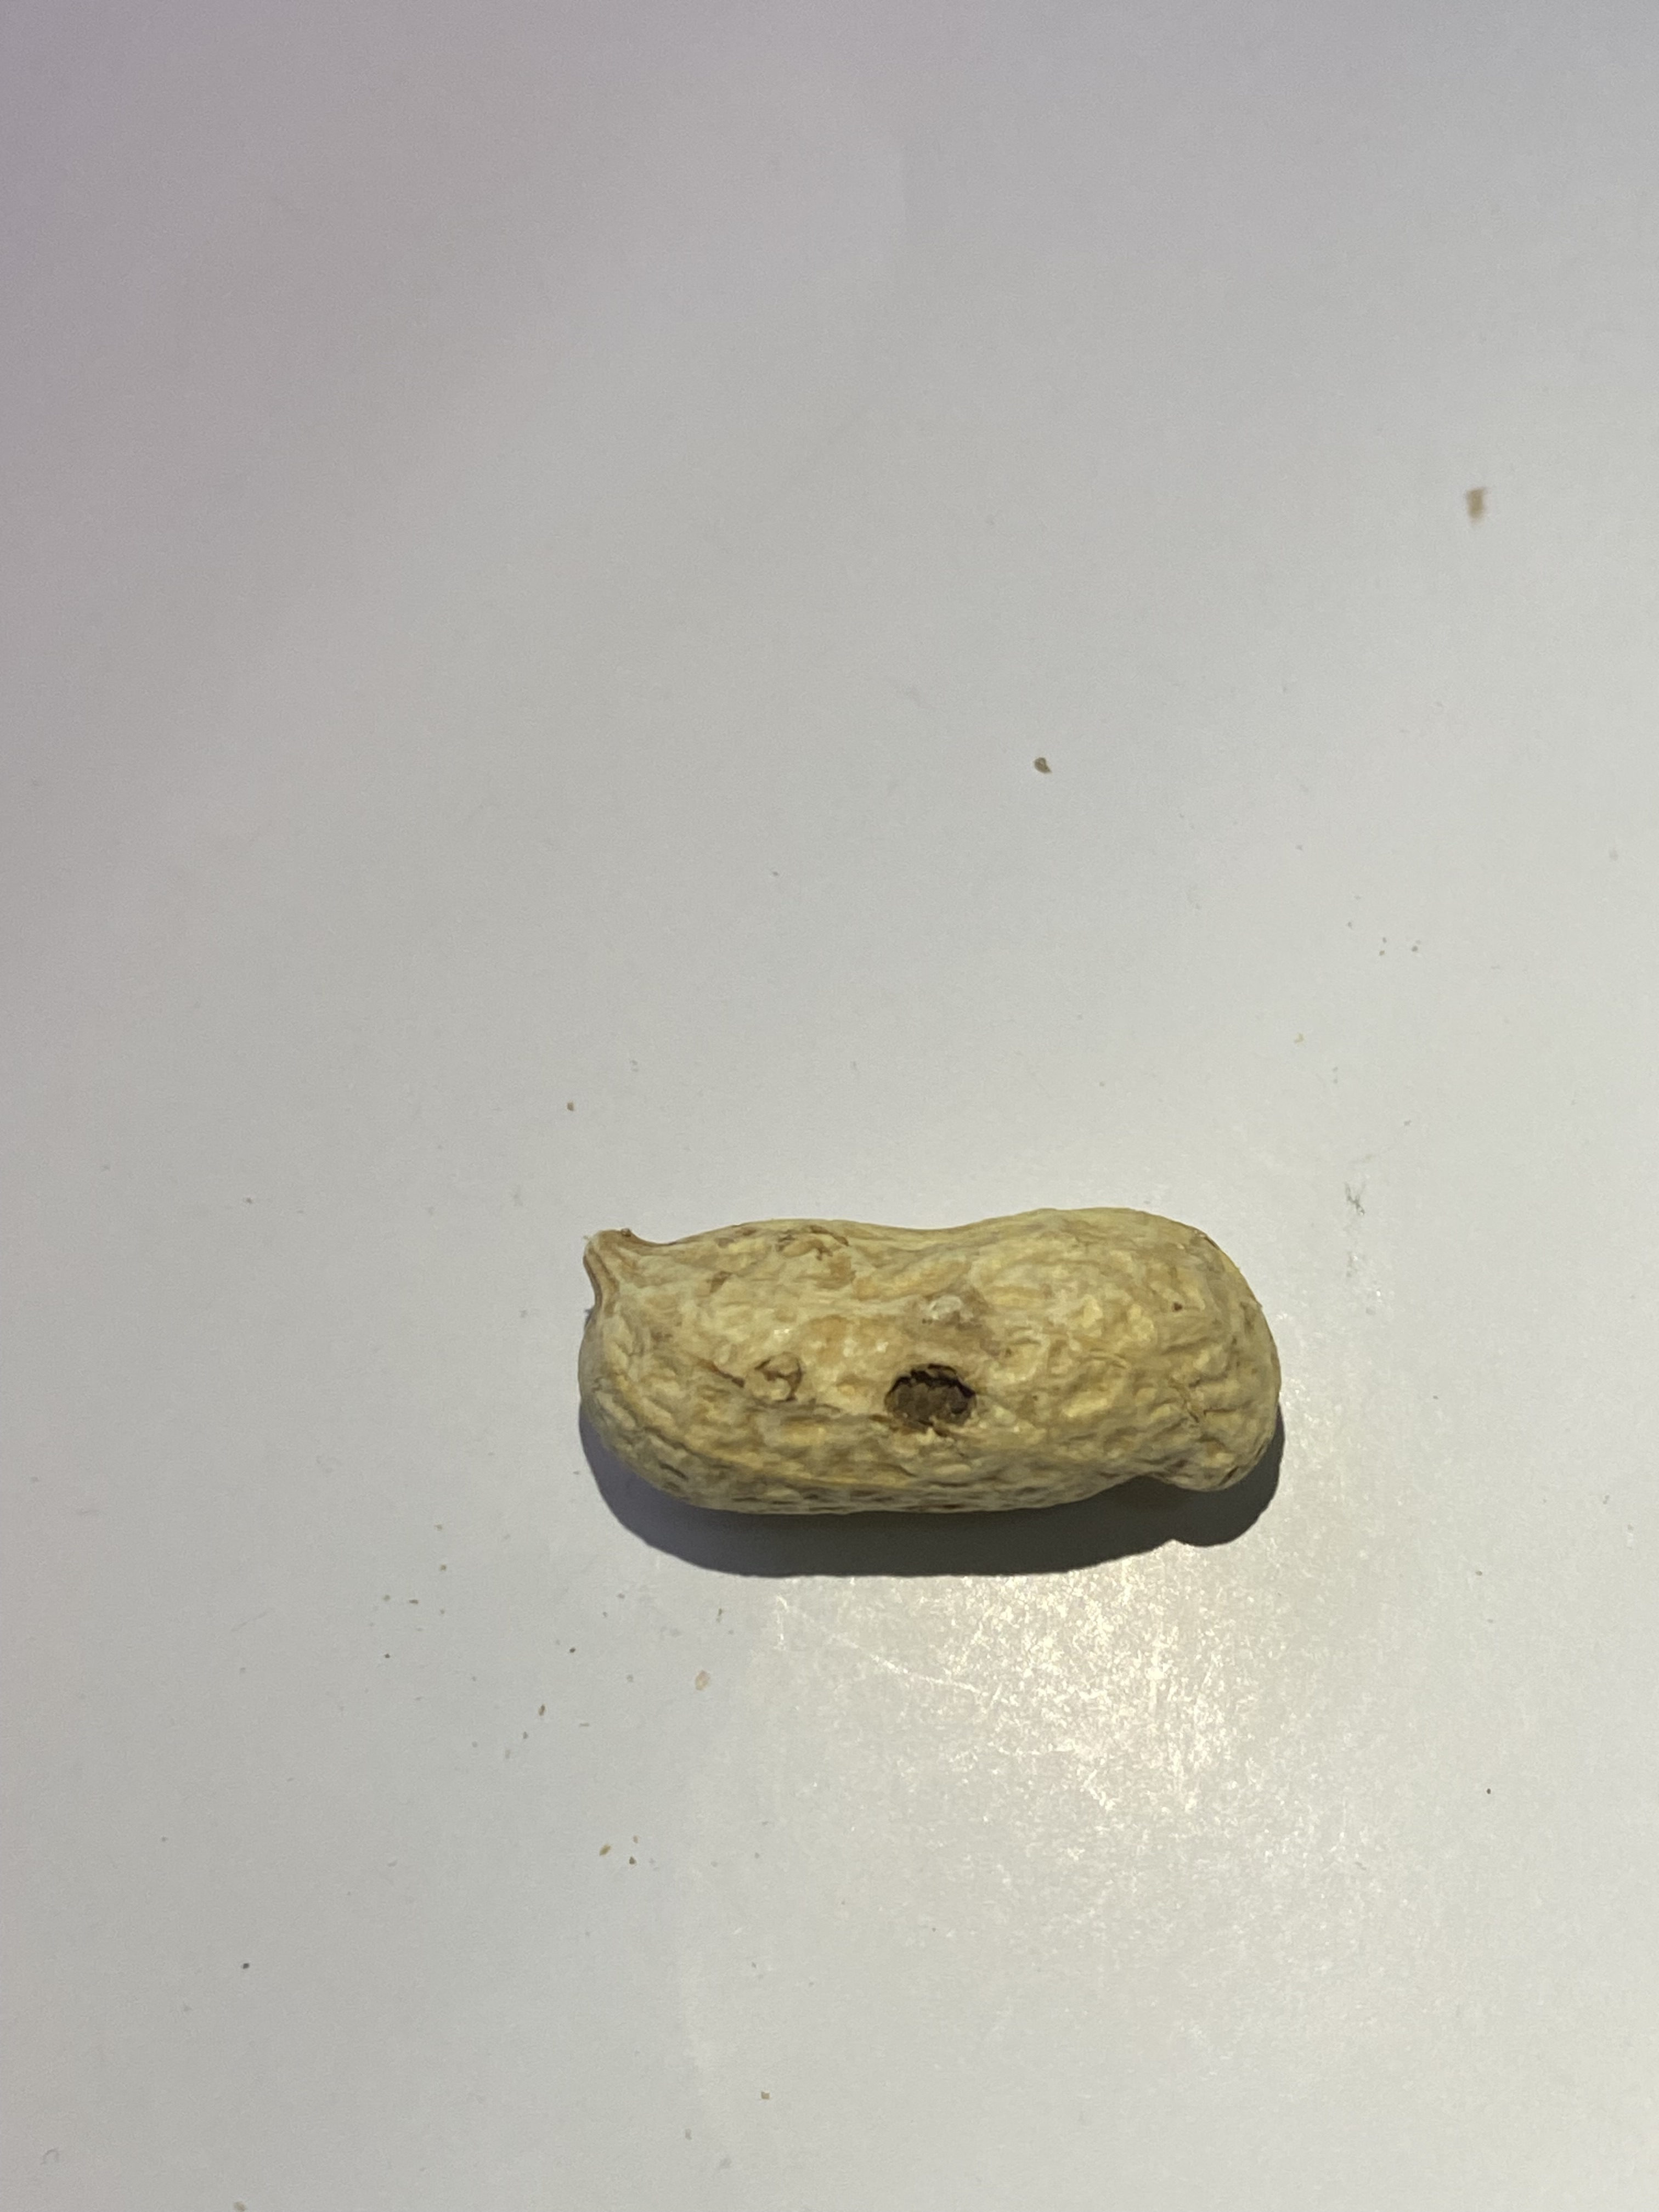kacang2: (558, 1205, 1307, 1524)
